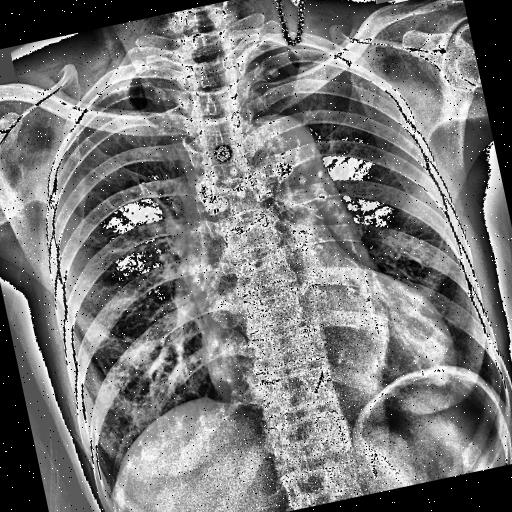0- Aortic enlargement: (226, 100, 348, 232), (226, 101, 344, 226), (217, 98, 325, 200)
2- Calcification: (192, 168, 229, 215), (246, 173, 272, 203), (272, 160, 294, 180), (310, 182, 328, 204), (233, 180, 248, 200), (297, 174, 307, 186)
3- Cardiomegaly: (194, 276, 458, 421), (199, 282, 458, 419), (201, 308, 462, 428)
8- Nodule-Mass: (264, 66, 280, 79)
9- Other lesion: (191, 148, 329, 228), (192, 168, 229, 215), (246, 173, 272, 203), (272, 160, 294, 180), (310, 182, 328, 204), (233, 180, 248, 200), (297, 174, 307, 186)
